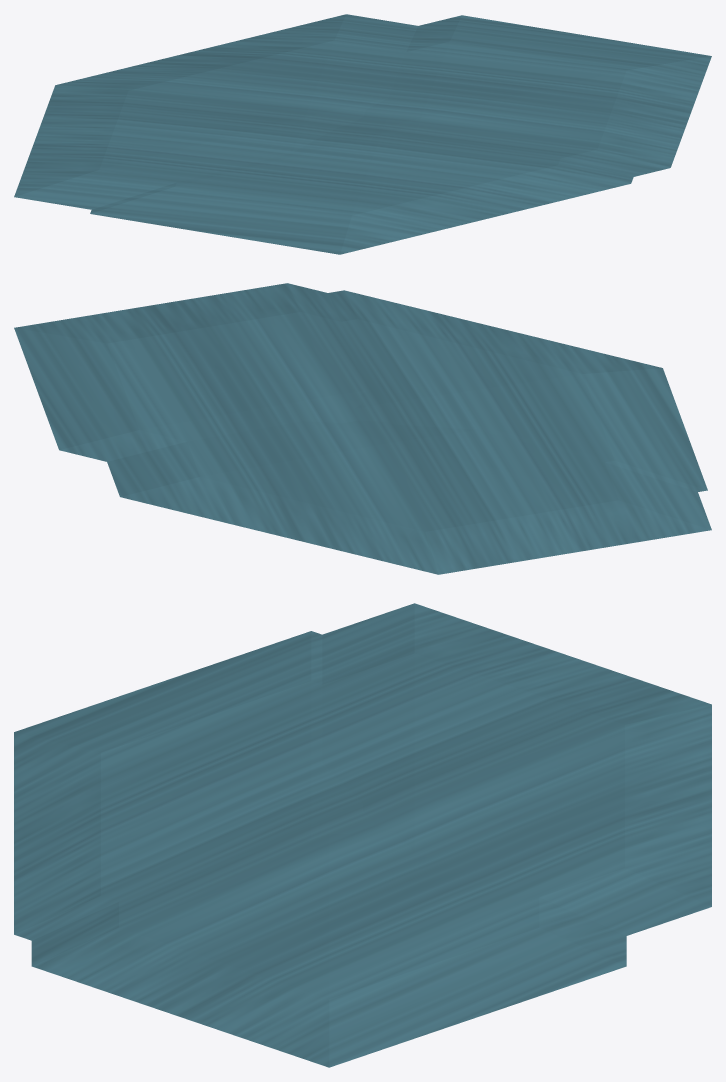
File: PROP-6D5770ACF085_lod2.glb
3 renders of one model, top to bottom at view 1: azimuth 30°, elevation 25°; view 2: azimuth 150°, elevation 25°; view 3: azimuth 270°, elevation 25°, orthographic. The views are drawn at different scales.
Visible parts, largest first — view 1: surface_hazard.001; view 2: surface_hazard.001; view 3: surface_hazard.001.
Part boxes in pixels (x1=…): surface_hazard.001: x1=14, y1=14, x2=711, y2=254; surface_hazard.001: x1=14, y1=283, x2=711, y2=574; surface_hazard.001: x1=14, y1=603, x2=711, y2=1067.
Bounding box in the file's own units: 1.38 × 0.036 × 0.8741.
1 material, 1 textured.
